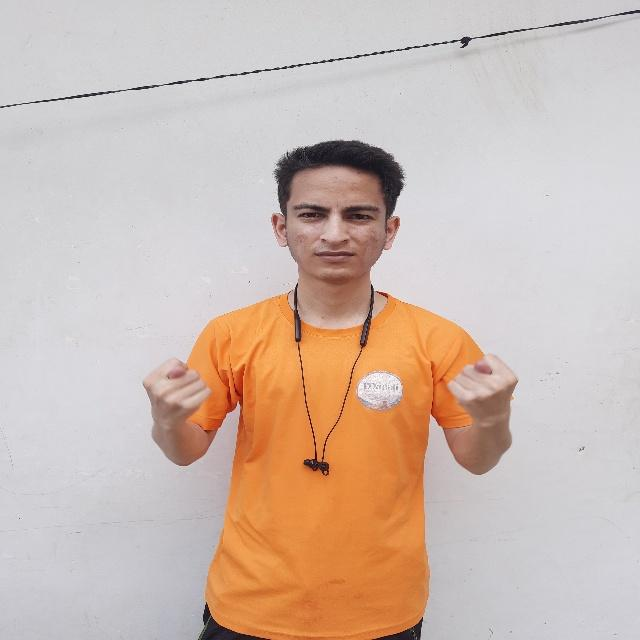Dulya: (138, 347, 218, 445), (442, 347, 526, 438)
